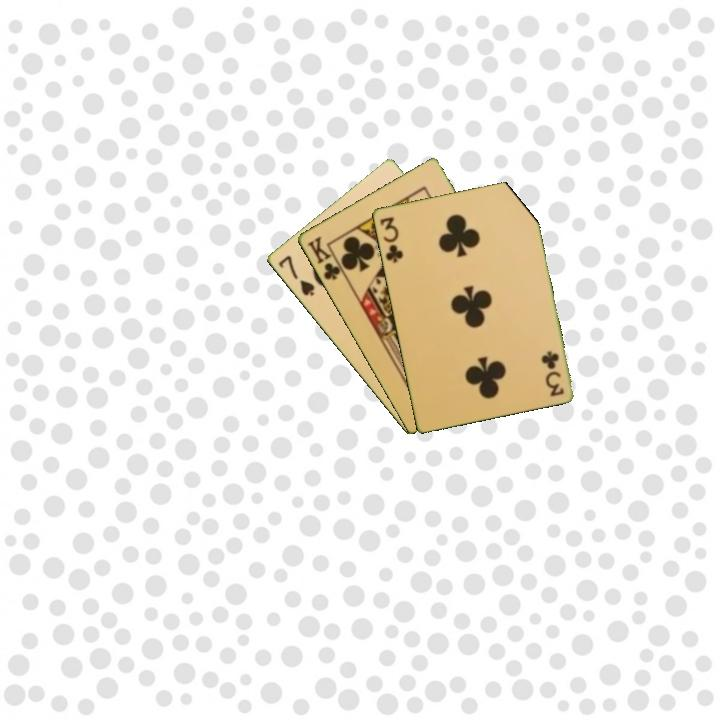3c: (376, 213, 406, 266), (539, 347, 566, 399)
7s: (274, 251, 317, 299)
Kc: (303, 233, 348, 283)
